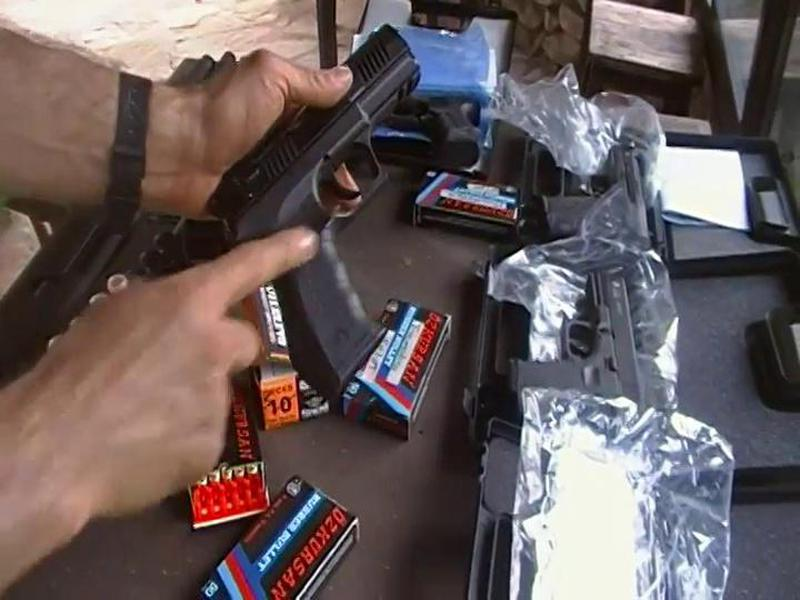Pistola: (211, 4, 422, 414)
